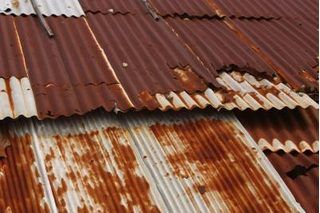rust: (86, 4, 313, 69), (181, 124, 258, 211), (39, 18, 83, 118), (106, 137, 155, 213), (4, 134, 31, 212)
